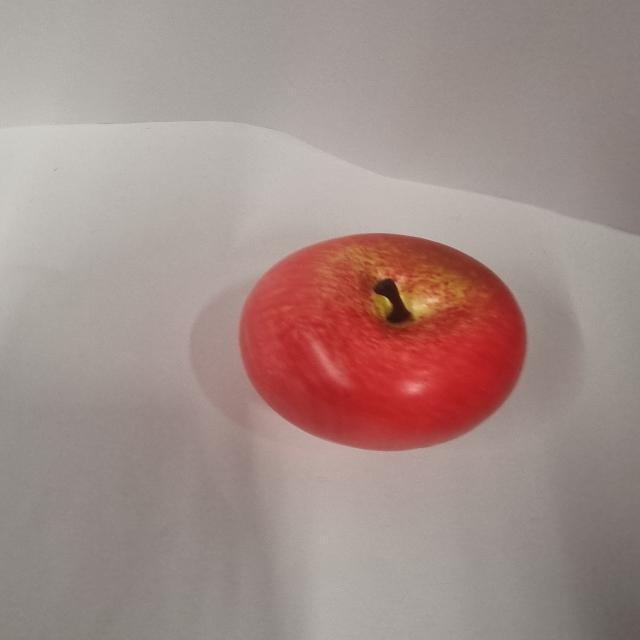apple: (240, 233, 526, 450)
